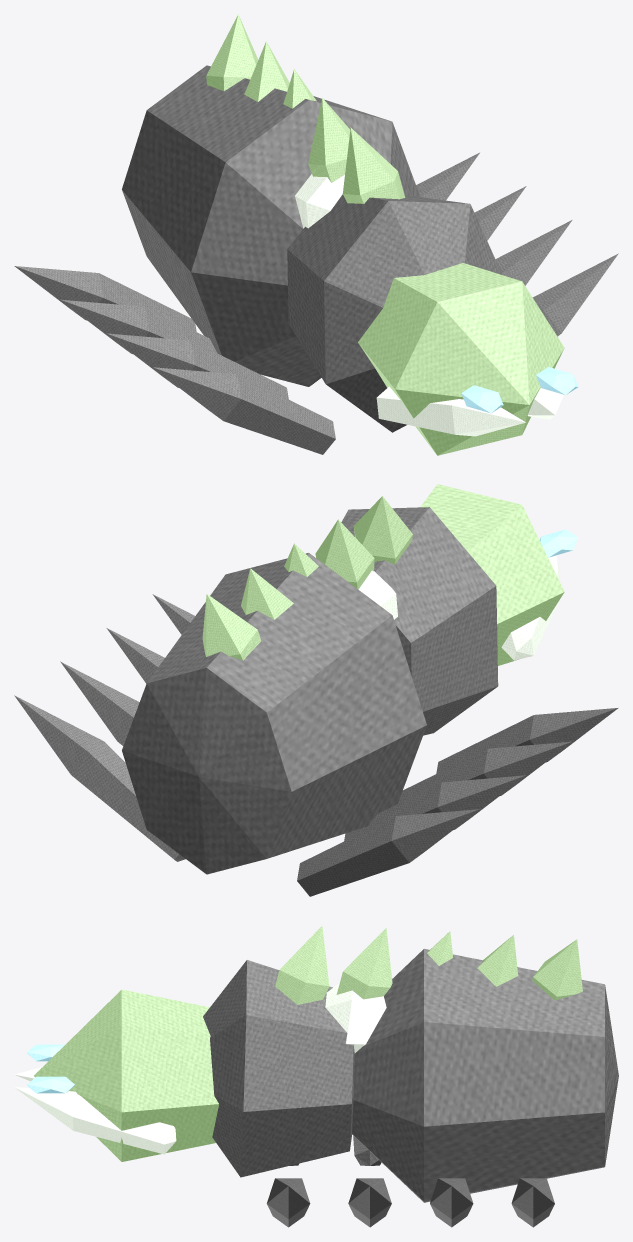
The model's file is deep-fracture-creature-Burrower-venom.glb.
The picture shows the model from 3 angles, top to bottom: view 1: azimuth 30°, elevation 25°; view 2: azimuth 150°, elevation 25°; view 3: azimuth 270°, elevation 25°; orthographic projection. The views are drawn at different scales.
Visible parts, largest first — view 1: armored-abdomen, armored-thorax, drill-head, dig-leg-l3, dig-leg-l2, dig-leg-l0, drill-left, dig-leg-l1, back-plate4, dig-leg-r3, back-plate3, back-plate0 (+9 smaller); view 2: armored-abdomen, armored-thorax, drill-head, dig-leg-l0, dig-leg-r0, dig-leg-l3, dig-leg-l2, dig-leg-l1, back-plate4, back-plate0, dig-leg-r1, back-plate3 (+7 smaller); view 3: armored-abdomen, armored-thorax, drill-head, drill-right, back-plate4, back-plate3, armor-core, back-plate0, dig-leg-r0, dig-leg-r1, dig-leg-r2, dig-leg-r3 (+5 smaller).
Part boxes in pixels (left/top/right/bottom): armored-abdomen: left=122, top=65, right=420, bottom=386; armored-thorax: left=287, top=194, right=502, bottom=432; drill-head: left=358, top=263, right=564, bottom=455; dig-leg-l3: left=153, top=367, right=335, bottom=454; dig-leg-l2: left=106, top=333, right=288, bottom=399; dig-leg-l0: left=14, top=266, right=196, bottom=331; drill-left: left=376, top=386, right=525, bottom=436; dig-leg-l1: left=60, top=299, right=216, bottom=353; back-plate4: left=342, top=127, right=405, bottom=203; dig-leg-r3: left=532, top=253, right=618, bottom=336; back-plate3: left=308, top=98, right=350, bottom=182; back-plate0: left=206, top=14, right=258, bottom=91; armored-abdomen: left=122, top=553, right=426, bottom=874; armored-thorax: left=341, top=507, right=498, bottom=735; drill-head: left=420, top=484, right=564, bottom=665; dig-leg-l0: left=297, top=809, right=480, bottom=896; dig-leg-r0: left=14, top=695, right=185, bottom=861; dig-leg-l3: left=436, top=708, right=618, bottom=773; dig-leg-l2: left=398, top=741, right=572, bottom=803; dig-leg-l1: left=344, top=775, right=526, bottom=841; back-plate4: left=353, top=496, right=412, bottom=564; back-plate0: left=202, top=594, right=261, bottom=660; dig-leg-r1: left=60, top=661, right=139, bottom=745; back-plate3: left=315, top=519, right=374, bottom=589; armored-abdomen: left=352, top=948, right=618, bottom=1202; armored-thorax: left=203, top=960, right=354, bottom=1177; drill-head: left=34, top=989, right=218, bottom=1161; drill-right: left=14, top=1087, right=176, bottom=1154; back-plate4: left=275, top=926, right=329, bottom=1004; back-plate3: left=336, top=928, right=392, bottom=999; armor-core: left=325, top=983, right=386, bottom=1053; back-plate0: left=532, top=939, right=582, bottom=1000; dig-leg-r0: left=511, top=1178, right=554, bottom=1227; dig-leg-r1: left=430, top=1178, right=473, bottom=1227; dig-leg-r2: left=348, top=1178, right=391, bottom=1227; dig-leg-r3: left=266, top=1178, right=310, bottom=1227.
Size of the model in its own units: 1.87 by 1.18 by 2.37.
5 materials, 5 textured.
